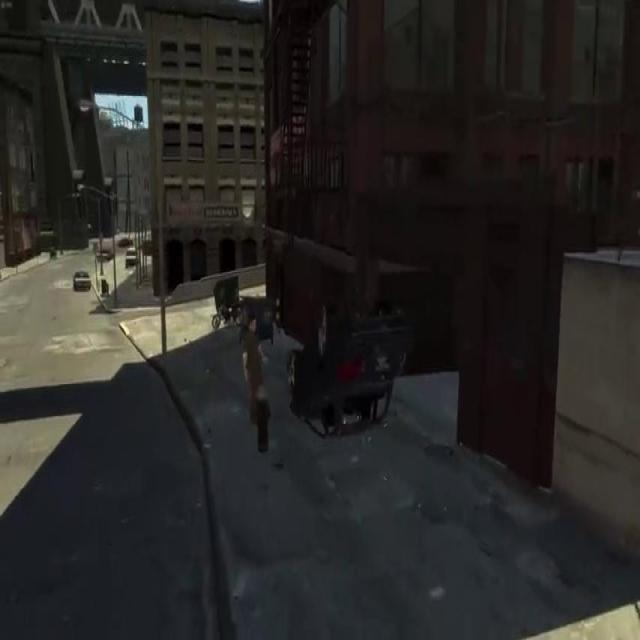severe: (278, 292, 417, 437)
